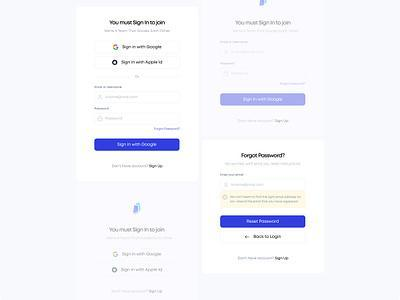button: (220, 94, 307, 107), (221, 216, 307, 229), (95, 139, 180, 151)
